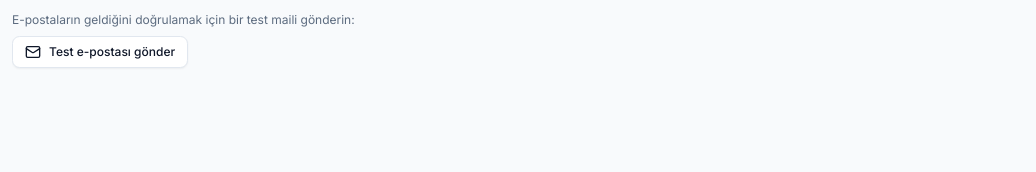
Test case: TestEmailButton (UI) › BAŞARISIZ gönderimde buton KALIR (tekrar denenebilir) ve bayrak yazılmaz
Click the button "Test e-postası gönder". click: [100, 52]
box: [12,36,188,68]
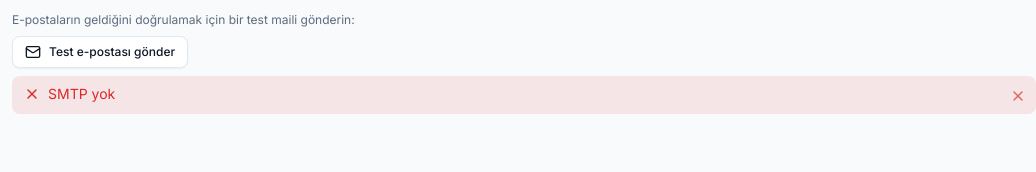
Result: the text "SMTP yok" is shown at [24,84,115,104]
